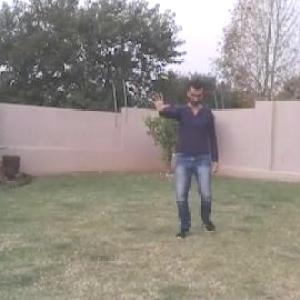follow_hand: (146, 84, 171, 112)
